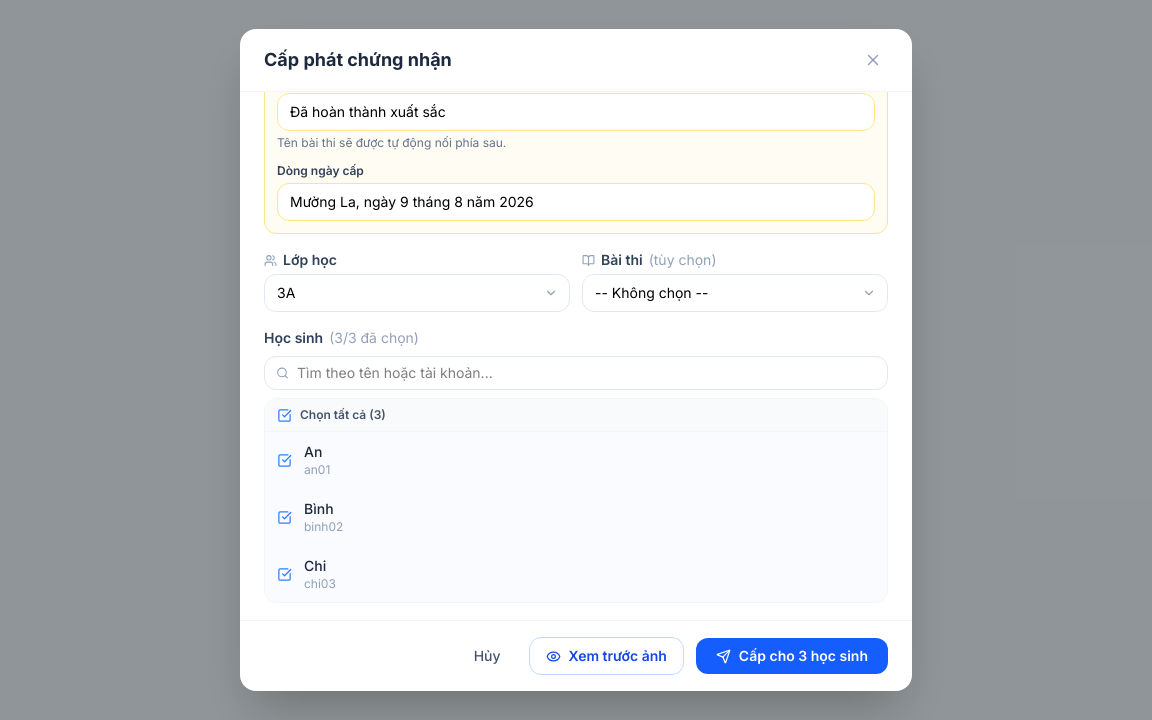
Test: Certificate BatchCreateModal contracts › toggles only the students visible in the current search
The width and height of the screenshot is (1152, 720).
(page scrolled)
Expected: the text "(3/3 đã chọn)" is shown, [329, 329, 419, 346]
Expected: the button "Cấp cho 3 học sinh" is shown, [696, 638, 888, 674]
Type "An" into the field with placeholder "Tìm theo tên hoặc tài khoản...".
click(576, 373); type("An")  # box [264, 356, 888, 390]
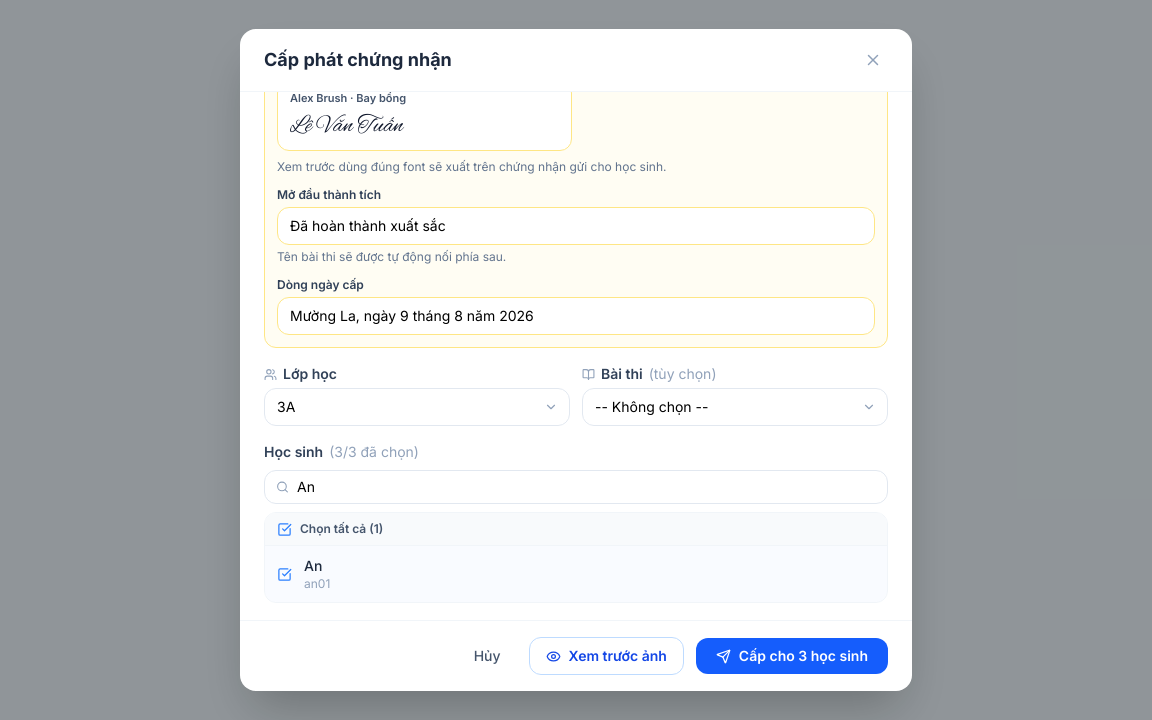
Click the text "Chọn tất cả (1)".
click(342, 529)  # box [300, 521, 383, 537]
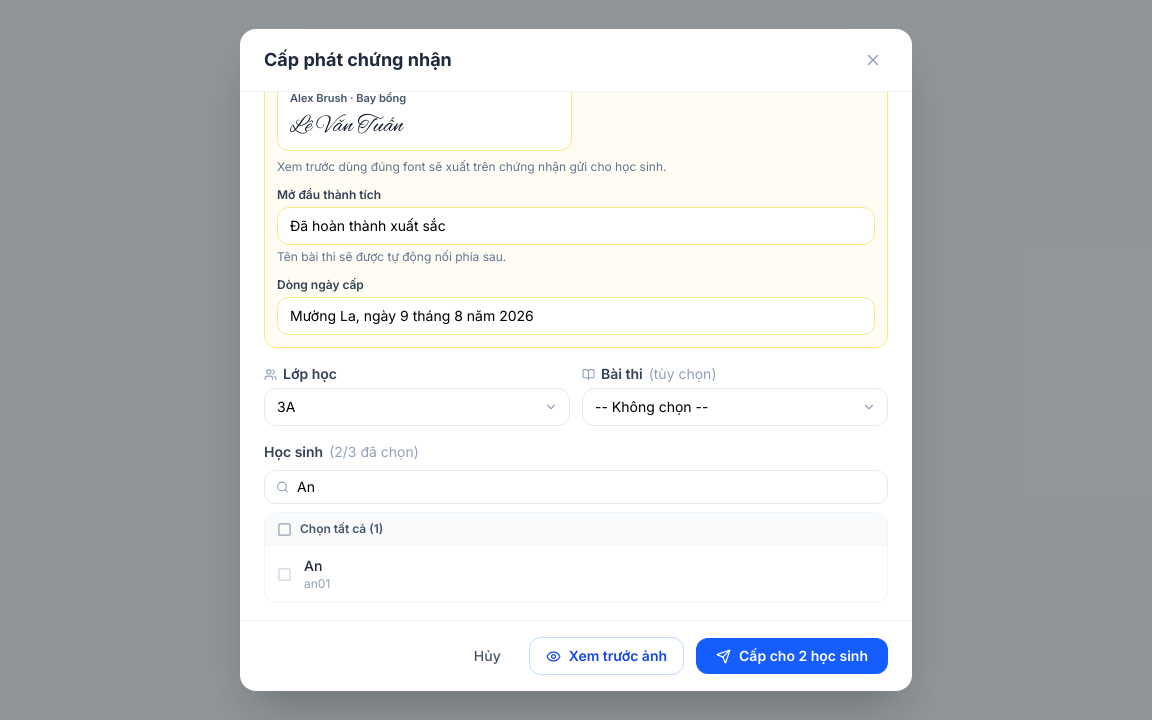
Result: the text "(2/3 đã chọn)" is shown at [329, 443, 419, 460]
Result: the button "Cấp cho 2 học sinh" is shown at [696, 638, 888, 674]
